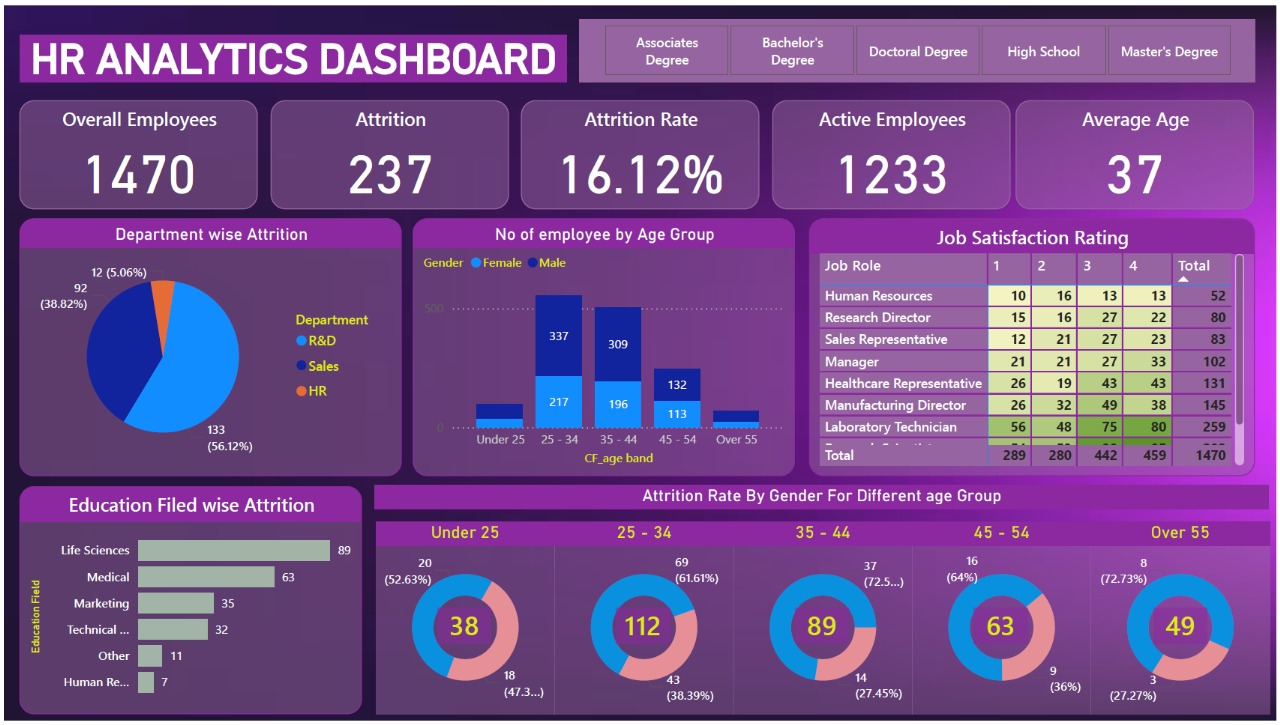

The dashboard page shown, as its layout file describes it:
{"tool":"powerbi","page":{"name":"Page 1","canvas":[1280,720],"ordinal":0},"visuals":[{"type":"card","title":"Overall Employees","fields":{"Values":["Sum(HR data.Employee Count)"]},"box":[15,95,240,110],"z":0},{"type":"card","title":"Attrition","fields":{"Values":["Sum(HR data.Attrition Count)"]},"box":[268.3,95,240,110],"z":1000},{"type":"card","title":"Attrition Rate","fields":{"Values":["HR data.Attrition Rate"]},"box":[520,95,240,110],"z":2000},{"type":"card","title":"Active Employees","fields":{"Values":["HR data.Active Employees"]},"box":[773.3,95,240,110],"z":3000},{"type":"card","title":"Average Age","fields":{"Values":["Avg(HR data.Age)"]},"box":[1018.1,95,240,110],"z":4000},{"type":"pieChart","title":"Department wise Attrition","fields":{"Category":["HR data.Department"],"Y":["Sum(HR data.Attrition Count)"]},"box":[15,213.8,385,260],"z":5000},{"type":"columnChart","title":"No of employee by Age Group","fields":{"Category":["HR data.CF_age band"],"Y":["Sum(HR data.Employee Count)"],"Series":["HR data.Gender"]},"box":[411.4,214.3,384.3,260],"z":6000},{"type":"pivotTable","title":"Job Satisfaction Rating","fields":{"Rows":["HR data.Job Role"],"Columns":["HR data.Job Satisfaction"],"Values":["Sum(HR data.Employee Count)"]},"box":[810,214.3,448.6,260],"z":7000},{"type":"barChart","title":"Education Filed wise Attrition","fields":{"Category":["HR data.Education Field"],"Y":["Sum(HR data.Attrition Count)"]},"box":[15,484,345,230],"z":8000},{"type":"donutChart","title":"Under 25","fields":{"Category":["HR data.Gender"],"Y":["Sum(HR data.Attrition Count)"],"Series":["HR data.CF_age band"]},"box":[374,520,180,194],"z":9000},{"type":"textbox","title":"Attrition Rate By Gender For Different age Group","box":[373.3,483.3,900,23.3],"z":10000},{"type":"donutChart","title":"25 - 34","fields":{"Category":["HR data.Gender"],"Y":["Sum(HR data.Attrition Count)"],"Series":["HR data.CF_age band"]},"box":[554,520,180,194],"z":11000},{"type":"donutChart","title":"35 - 44","fields":{"Category":["HR data.Gender"],"Y":["Sum(HR data.Attrition Count)"],"Series":["HR data.CF_age band"]},"box":[734,520,180,194],"z":12000},{"type":"donutChart","title":"45 - 54","fields":{"Category":["HR data.Gender"],"Y":["Sum(HR data.Attrition Count)"],"Series":["HR data.CF_age band"]},"box":[914,520,180,194],"z":13000},{"type":"donutChart","title":"Over 55","fields":{"Category":["HR data.Gender"],"Y":["Sum(HR data.Attrition Count)"],"Series":["HR data.CF_age band"]},"box":[1094,520,180,194],"z":14000},{"type":"card","fields":{"Values":["Sum(HR data.Attrition Count)"]},"box":[436.4,607.3,53.6,35.5],"z":15000},{"type":"card","fields":{"Values":["Sum(HR data.Attrition Count)"]},"box":[616.4,607.3,53.6,35.5],"z":16000},{"type":"card","fields":{"Values":["Sum(HR data.Attrition Count)"]},"box":[796.4,607.3,53.6,35.5],"z":17000},{"type":"card","fields":{"Values":["Sum(HR data.Attrition Count)"]},"box":[976.4,607.3,53.6,35.5],"z":18000},{"type":"card","fields":{"Values":["Sum(HR data.Attrition Count)"]},"box":[1157.3,607.3,53.6,35.5],"z":19000},{"type":"textbox","title":"HR ANALYTICS DASHBOARD","box":[15.7,28.6,550,48.6],"z":20000},{"type":"slicer","fields":{"Values":["HR data.Education"]},"box":[578.6,12.9,680,64.3],"z":21000}]}

Visuals, with their boxes in screenshot pixels (x1, y1, x2, y2), scaled from the page's 1280x720 canvas onto the 1280x725 screenshot:
"Overall Employees" card: BBox(15, 96, 255, 206)
"Attrition" card: BBox(268, 96, 508, 206)
"Attrition Rate" card: BBox(520, 96, 760, 206)
"Active Employees" card: BBox(773, 96, 1013, 206)
"Average Age" card: BBox(1018, 96, 1258, 206)
"Department wise Attrition" pieChart: BBox(15, 215, 400, 477)
"No of employee by Age Group" columnChart: BBox(411, 216, 796, 478)
"Job Satisfaction Rating" pivotTable: BBox(810, 216, 1259, 478)
"Education Filed wise Attrition" barChart: BBox(15, 487, 360, 719)
"Under 25" donutChart: BBox(374, 524, 554, 719)
"Attrition Rate By Gender For Different age Group" textbox: BBox(373, 487, 1273, 510)
"25 - 34" donutChart: BBox(554, 524, 734, 719)
"35 - 44" donutChart: BBox(734, 524, 914, 719)
"45 - 54" donutChart: BBox(914, 524, 1094, 719)
"Over 55" donutChart: BBox(1094, 524, 1274, 719)
card - Sum(HR data.Attrition Count): BBox(436, 612, 490, 647)
card - Sum(HR data.Attrition Count): BBox(616, 612, 670, 647)
card - Sum(HR data.Attrition Count): BBox(796, 612, 850, 647)
card - Sum(HR data.Attrition Count): BBox(976, 612, 1030, 647)
card - Sum(HR data.Attrition Count): BBox(1157, 612, 1211, 647)
"HR ANALYTICS DASHBOARD" textbox: BBox(16, 29, 566, 78)
slicer - HR data.Education: BBox(579, 13, 1259, 78)
